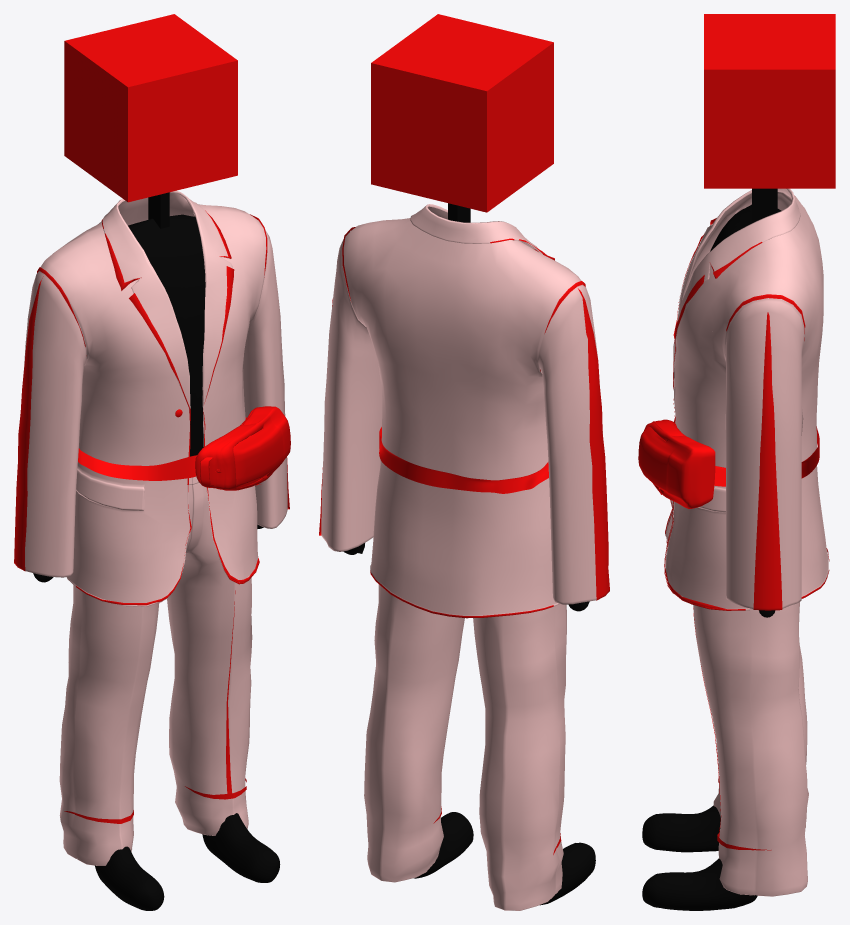
Rendered from defalut_red.fbx.
3 views of the same model, side by side, from view 1: azimuth 30°, elevation 25°; view 2: azimuth 150°, elevation 25°; view 3: azimuth 270°, elevation 25° (orthographic). The views are drawn at different scales.
Parts seen in each view (by area): view 1: Cloth_jacket, head, body, bag, Cloth_shadow; view 2: Cloth_jacket, head, Cloth_shadow, body, bag; view 3: Cloth_jacket, head, body, Cloth_shadow, bag.
Part boxes in pixels (<box>): Cloth_jacket: <box>23,190,287,865</box>; head: <box>64,14,237,202</box>; body: <box>33,192,280,910</box>; bag: <box>78,406,290,490</box>; Cloth_shadow: <box>14,210,289,823</box>; Cloth_jacket: <box>321,204,602,910</box>; head: <box>371,14,553,212</box>; Cloth_shadow: <box>319,227,609,854</box>; body: <box>343,203,595,905</box>; bag: <box>379,427,548,493</box>; Cloth_jacket: <box>665,188,828,896</box>; head: <box>704,14,835,188</box>; body: <box>642,188,781,910</box>; Cloth_shadow: <box>664,218,829,850</box>; bag: <box>638,416,819,508</box>.
Bounding box in the file's own units: 29.3 × 84.71 × 18.11.
